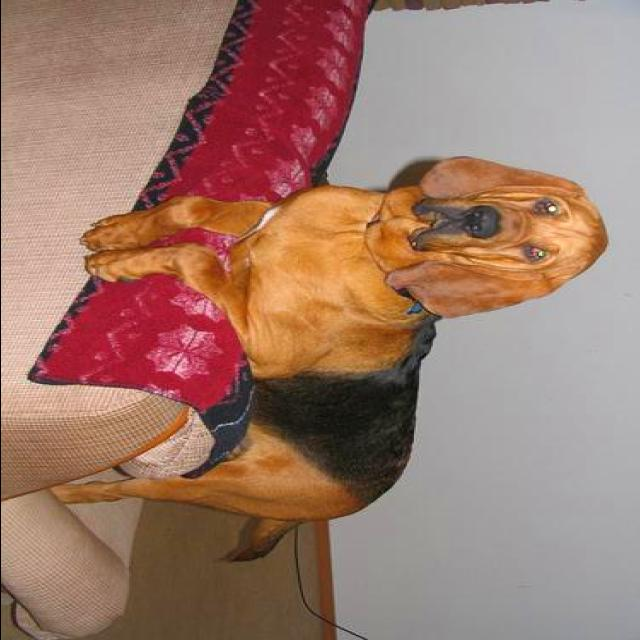bloodhound: (53, 158, 609, 564)
